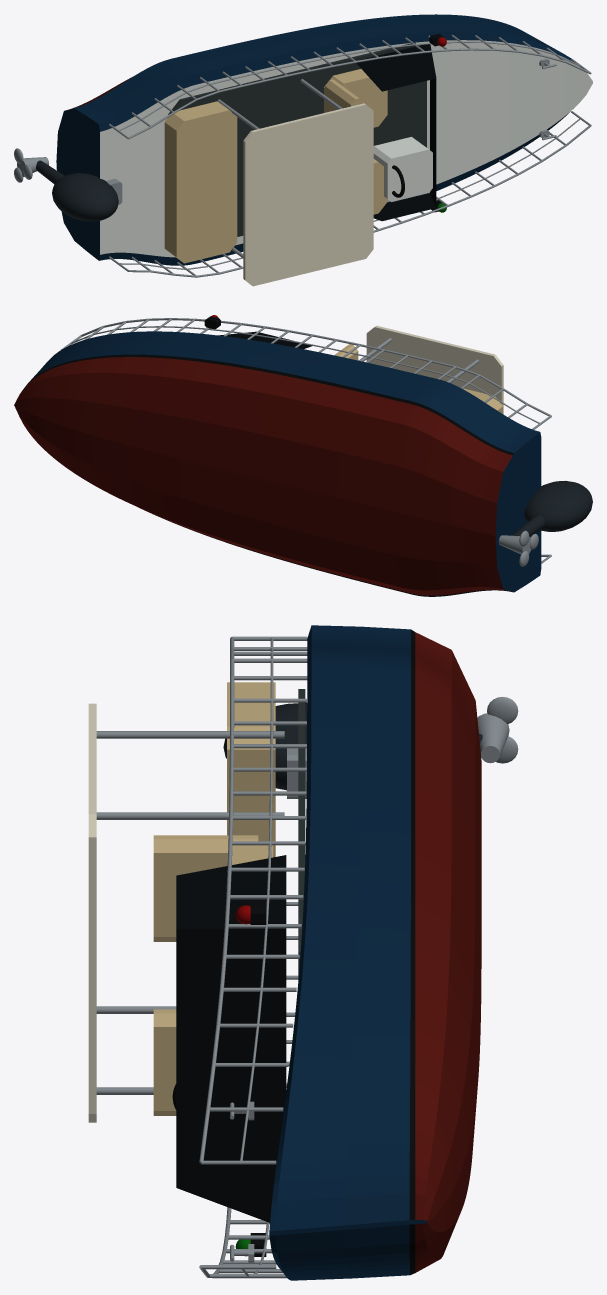
File: speedboat.obj
3 renders of one model, top to bottom at view 1: azimuth 30°, elevation 25°; view 2: azimuth 150°, elevation 25°; view 3: azimuth 270°, elevation 25°, orthographic. The views are drawn at different scales.
Size of the model in its own units: 6.95 by 2.4 by 2.46.
